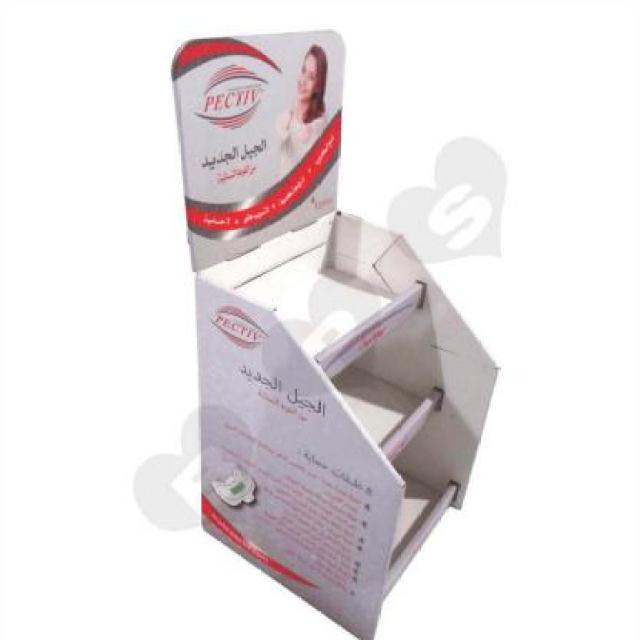box: (143, 32, 597, 640)
